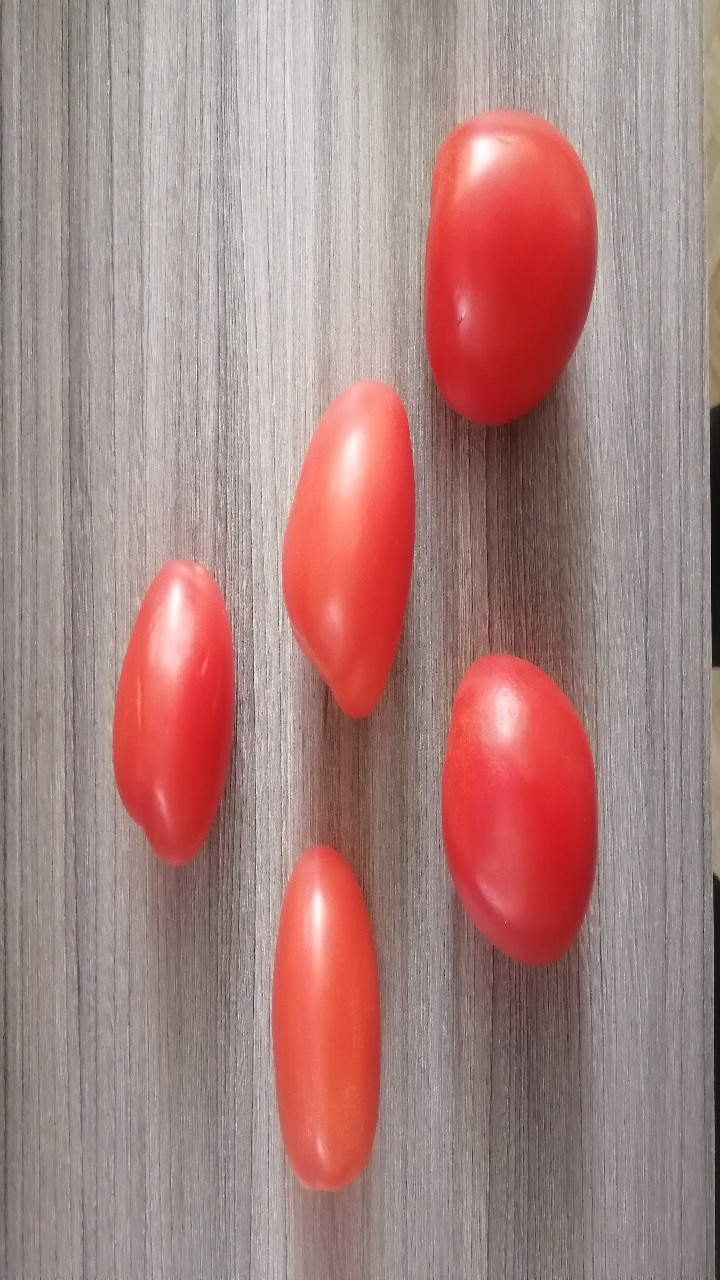tomateRojo: (395, 100, 638, 454), (415, 642, 635, 989), (241, 837, 415, 1208), (268, 357, 431, 731), (98, 532, 257, 886)
